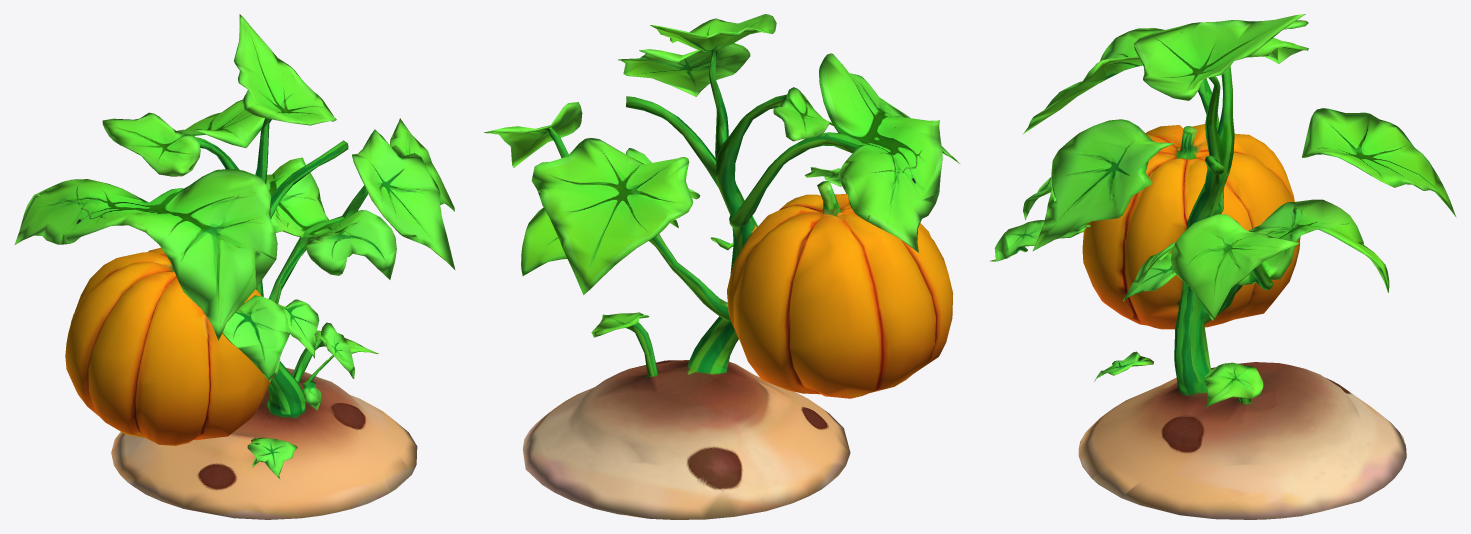
Rendered from pumpkin.glb.
3 renders of one model, left to right at view 1: azimuth 30°, elevation 25°; view 2: azimuth 150°, elevation 25°; view 3: azimuth 270°, elevation 25°, orthographic. The views are drawn at different scales.
Bounding box in the file's own units: 1.9 × 1.85 × 1.78.
1 material, 1 textured.
